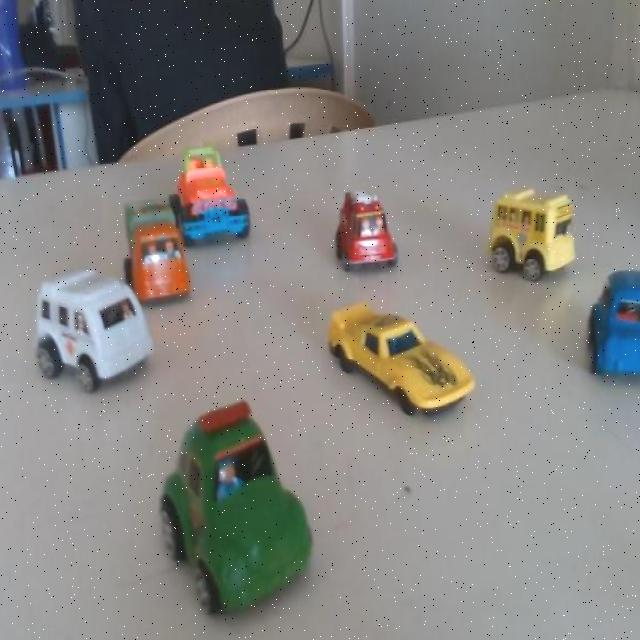car: (141, 401, 323, 618), (29, 247, 167, 416), (325, 291, 473, 426), (480, 184, 577, 295), (320, 177, 401, 293), (176, 138, 260, 245), (123, 187, 192, 309), (587, 266, 640, 392)
